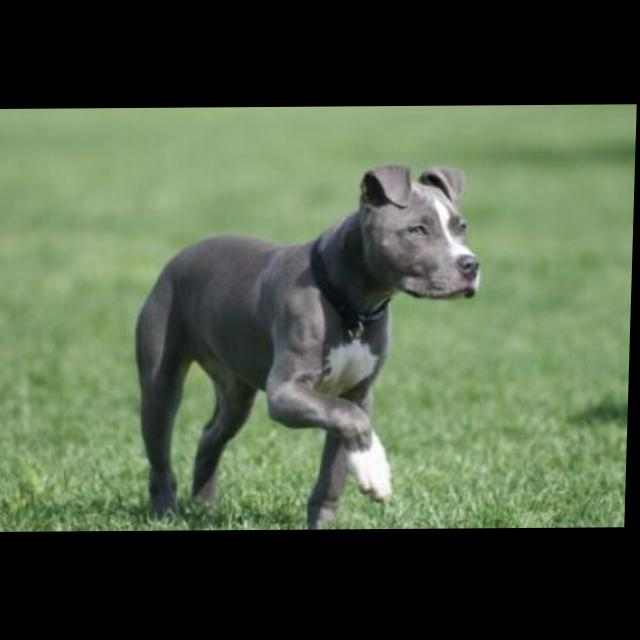am_pit_bull_terrier: (131, 163, 485, 532)
